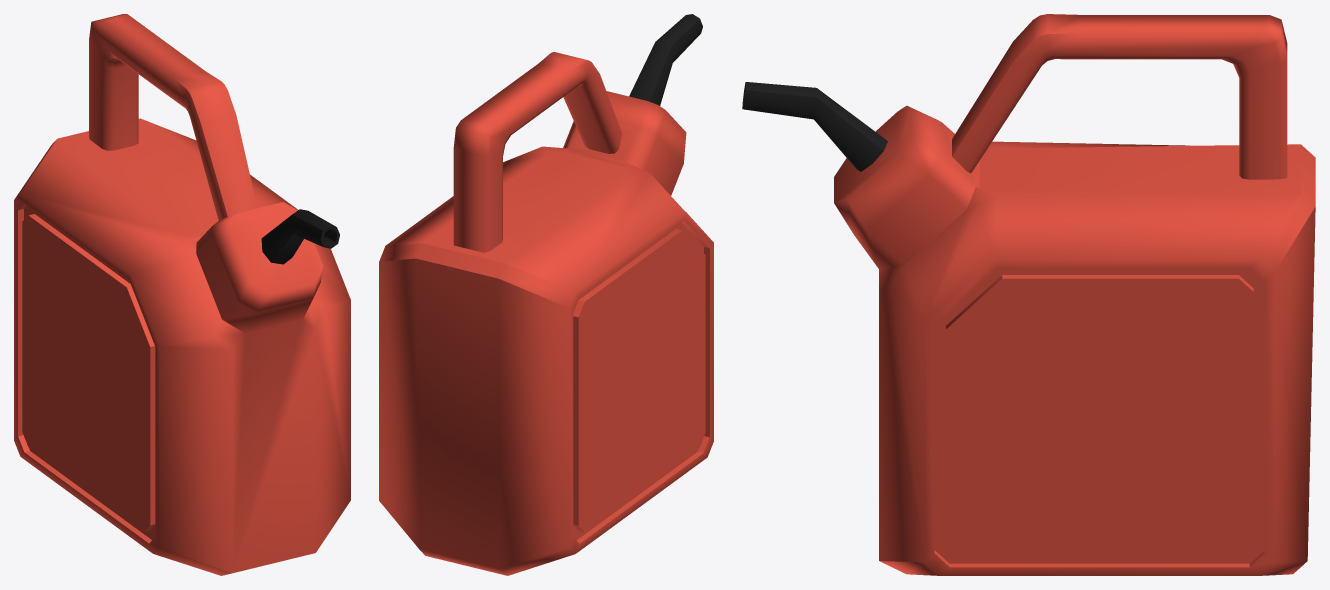
Rendered from fuel can.fbx.
The picture shows the model from 3 angles, left to right: view 1: azimuth 30°, elevation 25°; view 2: azimuth 150°, elevation 25°; view 3: azimuth 270°, elevation 25°; orthographic projection. The views are drawn at different scales.
Visible parts, largest first — view 1: Gas Can; view 2: Gas Can; view 3: Gas Can.
Boxes of the visible parts, <box> form: Gas Can: <box>14,14,350,575</box>; Gas Can: <box>379,14,713,575</box>; Gas Can: <box>742,14,1315,575</box>.
Size of the model in its own units: 25.77 by 55.94 by 55.26.
